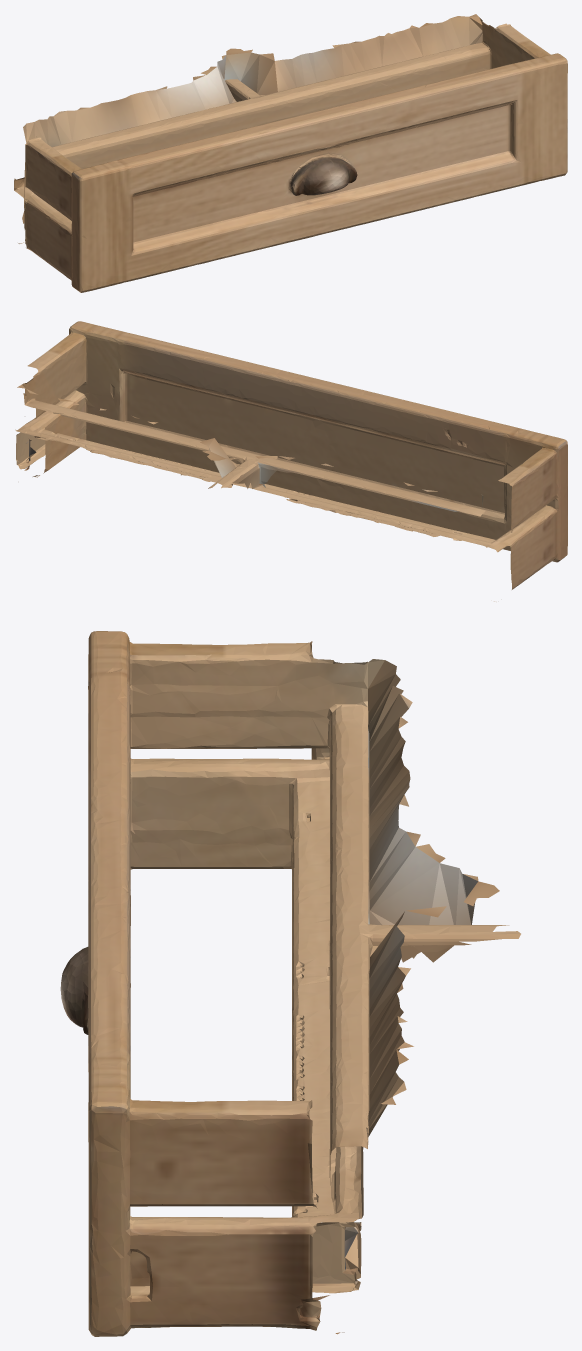
File: drawer_bottom.glb
The picture shows the model from 3 angles, top to bottom: view 1: azimuth 30°, elevation 25°; view 2: azimuth 150°, elevation 25°; view 3: azimuth 270°, elevation 25°; orthographic projection. The views are drawn at different scales.
Visible parts, largest first — view 1: source_surface_0; view 2: source_surface_0; view 3: source_surface_0.
Part boxes in pixels (x1,y1,x2,y2): source_surface_0: (14, 14, 567, 292); source_surface_0: (15, 321, 567, 601); source_surface_0: (60, 631, 520, 1336).
Bounding box in the file's own units: 0.7004 × 0.1602 × 0.284.
Materials: 1 (1 with a texture image).
